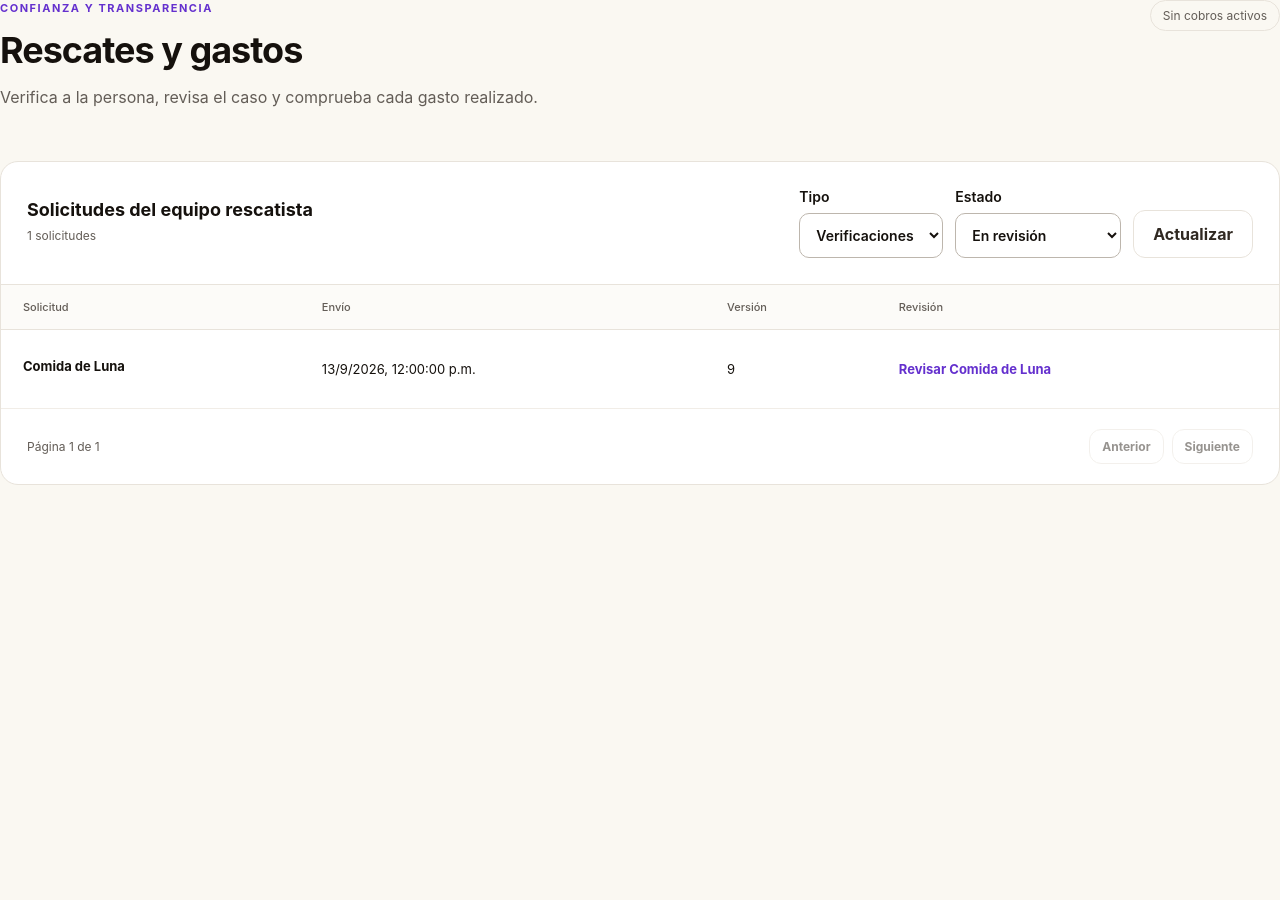
rescue review › clears private details when a review conflicts and requires a fresh load
This screenshot has width=1280, height=900.
Click the button "Revisar Comida de Luna" at (975, 369), box [899,351,1051,387]
(page scrolled)
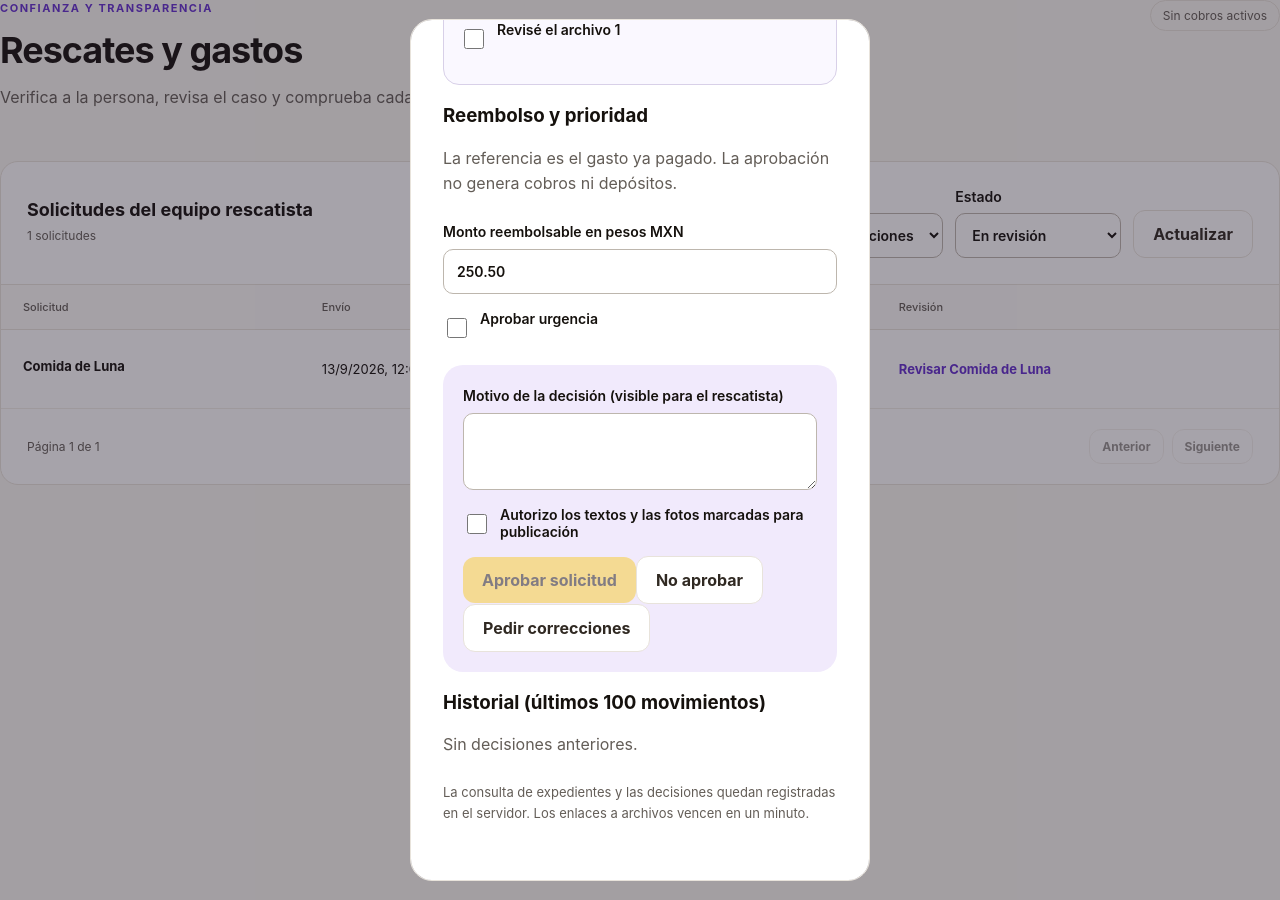
Type "Adjunta una foto legible" into the text box labelled "Motivo de la decisión (visible para el rescatista)" at (640, 451), box [463,413,817,490]
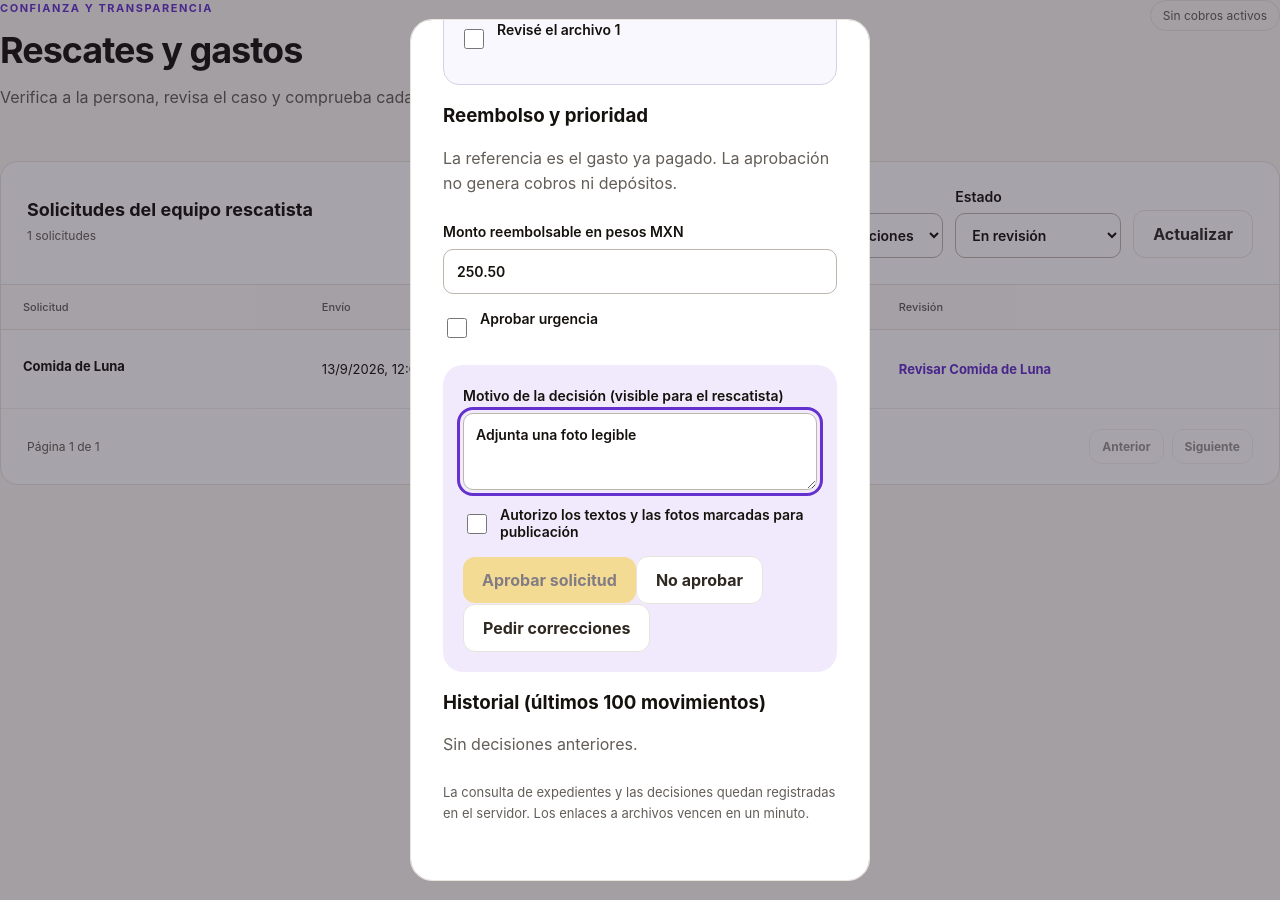
Click the button "Pedir correcciones" at (557, 628), box [463,604,650,652]
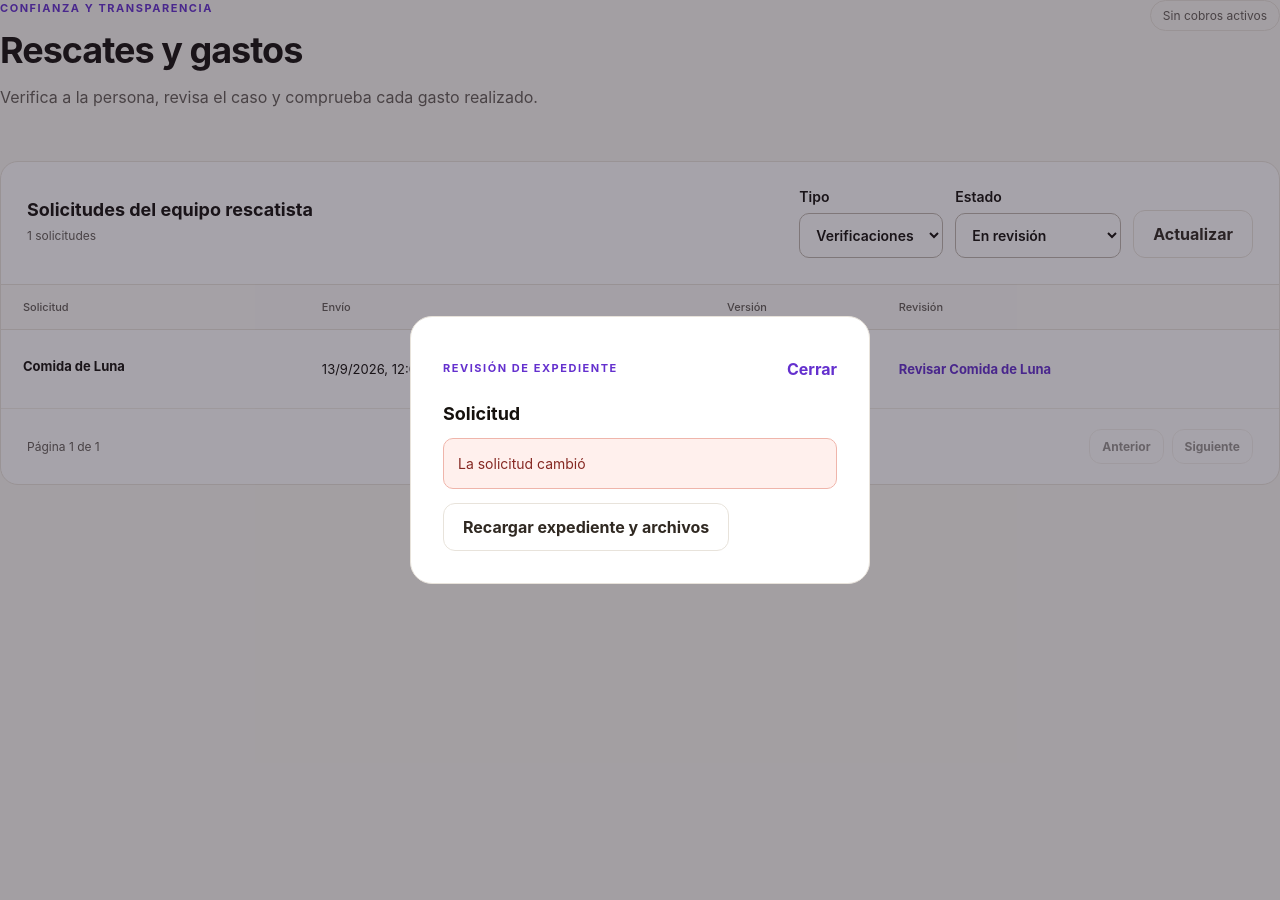
Expected: the text "La solicitud cambió" is shown, [443,438,837,489]
Expected: the button "Aprobar solicitud" is gone
